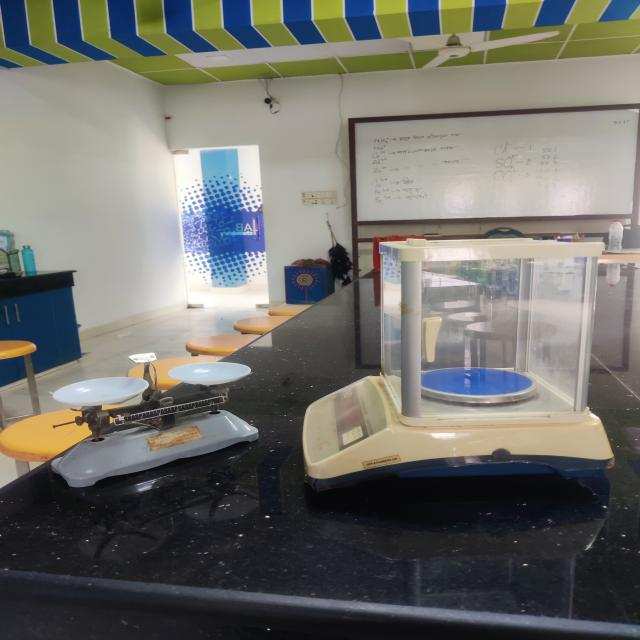Mechanical_Balance_Scale: (31, 356, 258, 486)
Precision_Weight_Scale: (293, 223, 617, 517)
